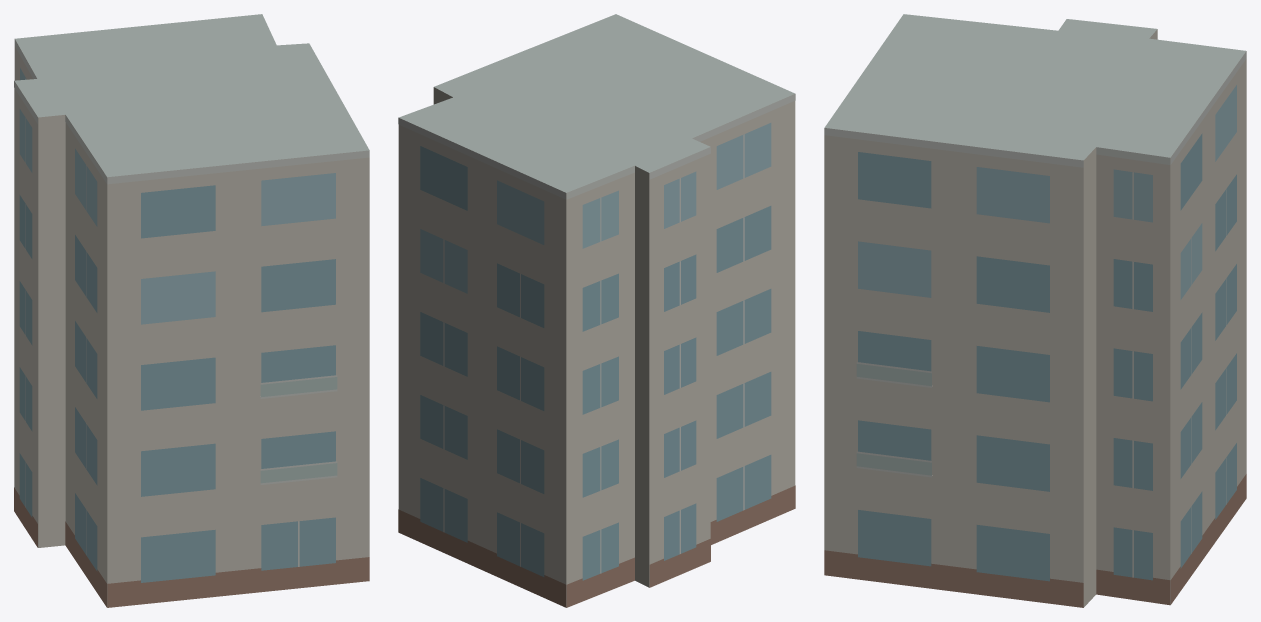
Rendered from survey-upis-32669730.glb.
3 renders of one model, left to right at view 1: azimuth 30°, elevation 25°; view 2: azimuth 150°, elevation 25°; view 3: azimuth 270°, elevation 25°, orthographic. The views are drawn at different scales.
Visible parts, largest first — view 1: survey-upis-32669730.tmp; view 2: survey-upis-32669730.tmp; view 3: survey-upis-32669730.tmp.
Part boxes in pixels (x1,y1,x2,y2): survey-upis-32669730.tmp: (14,14,369,607); survey-upis-32669730.tmp: (398,14,795,607); survey-upis-32669730.tmp: (824,14,1246,607).
Size of the model in its own units: 10.4 by 14.8 by 12.67.
